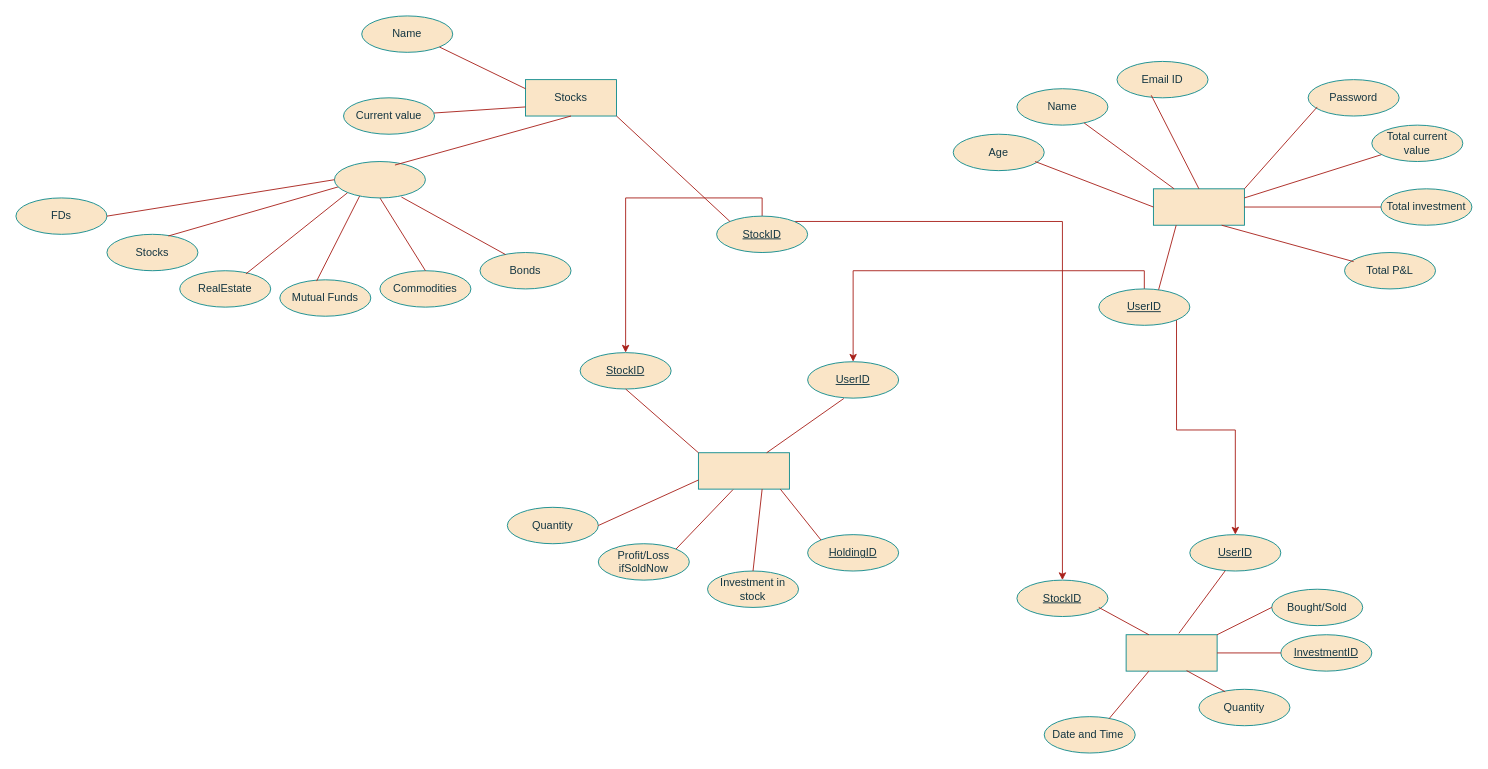
The diagram is 1488 pixels wide and 769 high, and some of its shapes have lost their labels. The box of each missing label's shape, as (x1, y1, x2, y2) in pixels:
Current Holdings: (698, 452, 789, 489)
Transaction: (1125, 634, 1217, 671)
Type: (334, 161, 425, 198)
User: (1153, 188, 1244, 225)
